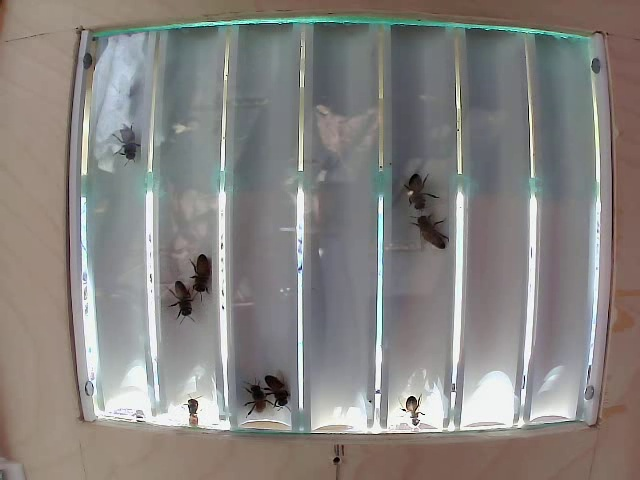bee: (269, 365, 310, 417), (408, 204, 447, 254), (399, 174, 437, 220), (241, 380, 279, 425), (184, 254, 217, 305), (113, 126, 146, 173), (167, 278, 197, 322)
